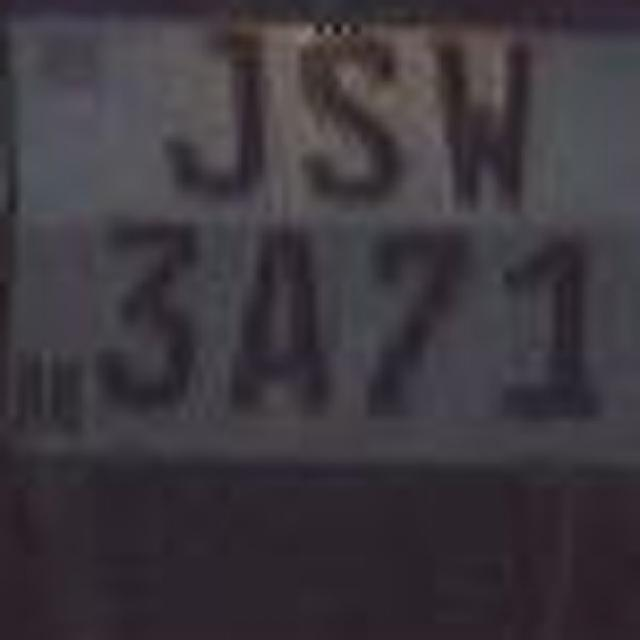1: (480, 205, 608, 420)
3: (84, 212, 211, 436)
7: (344, 212, 468, 420)
A: (211, 212, 344, 432)
J: (128, 36, 284, 209)
N: (400, 24, 535, 208)
S: (268, 36, 412, 204)
